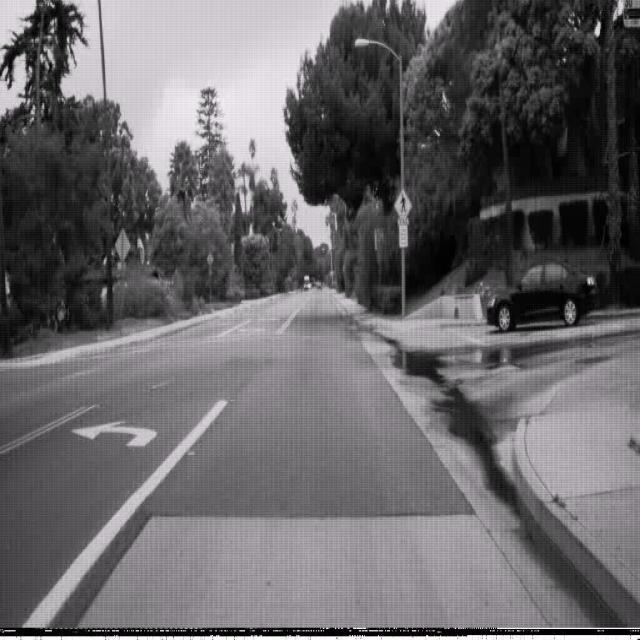pedestrianCrossing: (394, 188, 412, 222)
